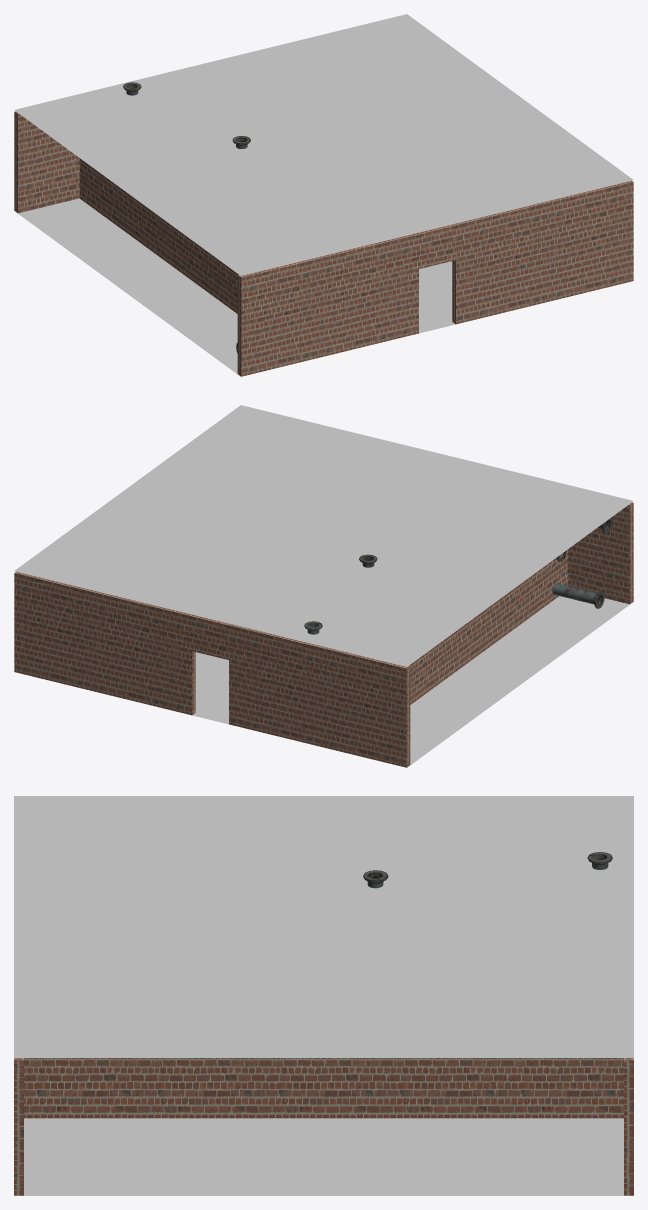
The model's file is HC_room2_maintenance.gltf.
3 renders of one model, top to bottom at view 1: azimuth 30°, elevation 25°; view 2: azimuth 150°, elevation 25°; view 3: azimuth 270°, elevation 25°, orthographic. The views are drawn at different scales.
Visible parts, largest first — view 1: Ceiling, Cube.001, Floor.001, Plane.005, Cube.011; view 2: Ceiling, Cube.011, Floor.001, Plane.005, Cube.001, modular_industrial_pipes_01_pipe01; view 3: Ceiling, Floor.001, Plane, Cube.001, Cube.011.
Boxes of the visible parts, left/top/right/bottom form: Ceiling: left=14, top=14, right=633, bottom=275; Cube.001: left=237, top=180, right=633, bottom=376; Floor.001: left=14, top=198, right=455, bottom=376; Plane.005: left=79, top=158, right=238, bottom=313; Cube.011: left=14, top=111, right=79, bottom=213; Ceiling: left=14, top=405, right=633, bottom=666; Cube.011: left=14, top=571, right=410, bottom=767; Floor.001: left=192, top=596, right=633, bottom=767; Plane.005: left=409, top=549, right=568, bottom=704; Cube.001: left=568, top=502, right=633, bottom=604; modular_industrial_pipes_01_pipe01: left=552, top=583, right=604, bottom=608; Ceiling: left=14, top=796, right=633, bottom=1057; Floor.001: left=14, top=1118, right=633, bottom=1195; Plane: left=24, top=1058, right=623, bottom=1118; Cube.001: left=14, top=1058, right=23, bottom=1195; Cube.011: left=624, top=1058, right=633, bottom=1195.
Bounding box in the file's own units: 20.48 × 5.37 × 20.48.
